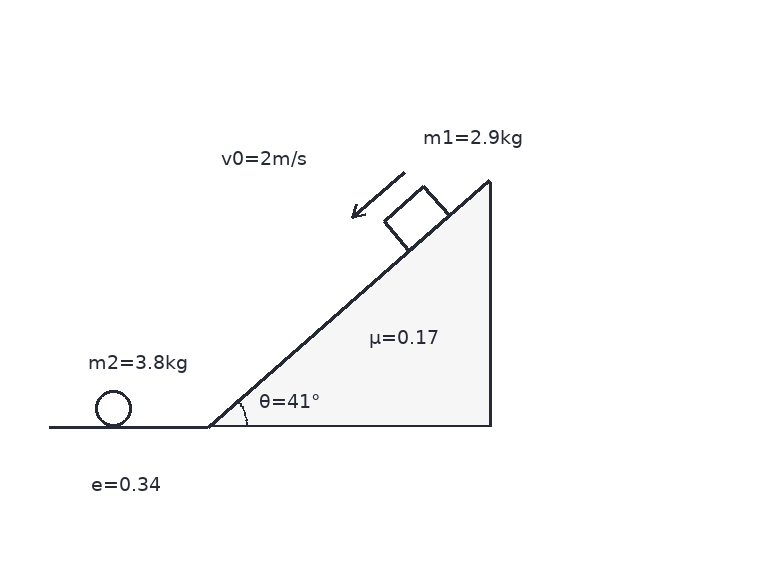ball: (93, 388, 133, 428)
block: (381, 184, 451, 252)
ramp: (205, 178, 492, 428)
